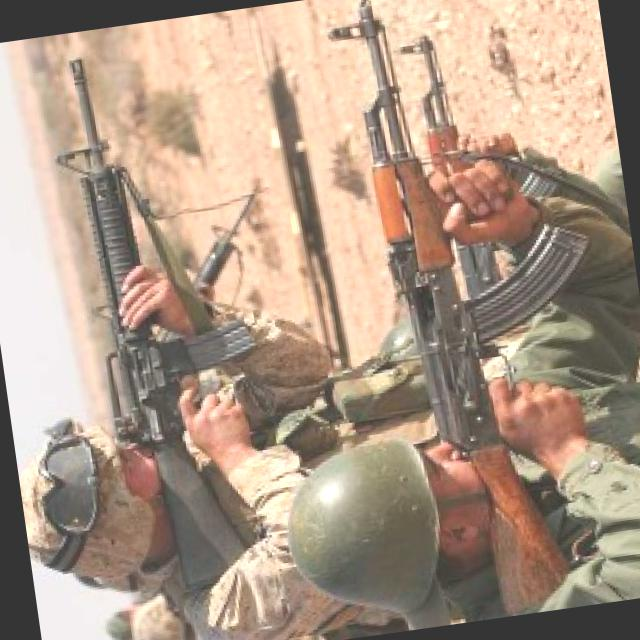long weapon: (294, 0, 581, 463), (31, 66, 269, 448)
